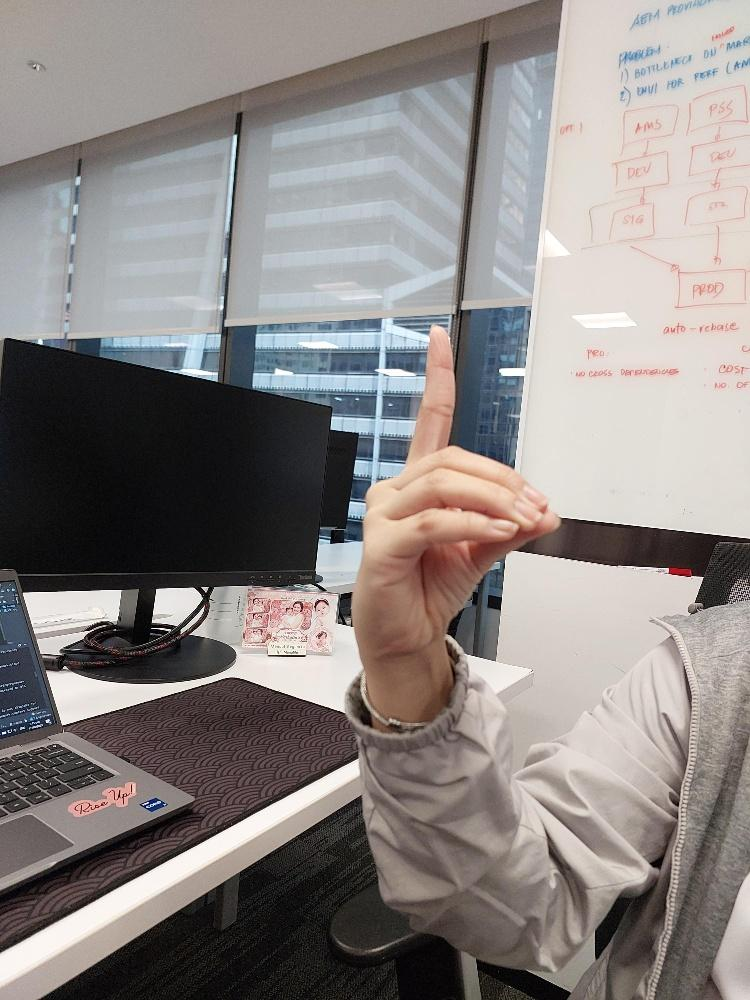d: (353, 324, 558, 643)
